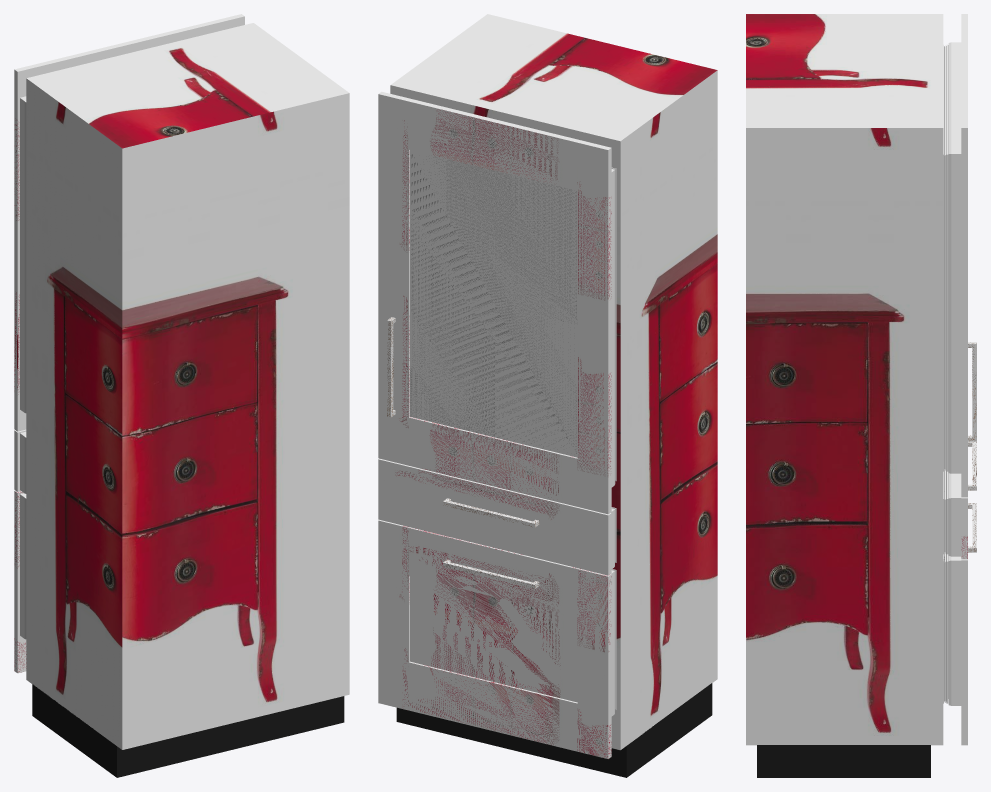
3 views of the same model, side by side, from view 1: azimuth 30°, elevation 25°; view 2: azimuth 150°, elevation 25°; view 3: azimuth 270°, elevation 25° (orthographic). The views are drawn at different scales.
Visible parts, largest first — view 1: mesh64_mesh64-geometry, mesh1_mesh1-geometry, mesh61_mesh61-geometry, mesh63_mesh63-geometry; view 2: mesh61_mesh61-geometry, mesh64_mesh64-geometry, mesh63_mesh63-geometry, mesh66_mesh66-geometry, mesh1_mesh1-geometry; view 3: mesh64_mesh64-geometry, mesh61_mesh61-geometry, mesh1_mesh1-geometry, mesh63_mesh63-geometry, mesh62_mesh62-geometry, mesh67_mesh67-geometry, mesh66_mesh66-geometry, mesh65_mesh65-geometry.
Boxes of the visible parts, x1,y1,x2,y2 form: mesh64_mesh64-geometry: [26, 23, 349, 749]; mesh1_mesh1-geometry: [32, 684, 344, 777]; mesh61_mesh61-geometry: [14, 14, 244, 431]; mesh63_mesh63-geometry: [14, 490, 26, 673]; mesh61_mesh61-geometry: [378, 91, 615, 514]; mesh64_mesh64-geometry: [390, 14, 717, 750]; mesh63_mesh63-geometry: [378, 520, 614, 758]; mesh66_mesh66-geometry: [378, 458, 611, 575]; mesh1_mesh1-geometry: [396, 683, 712, 777]; mesh64_mesh64-geometry: [746, 14, 948, 745]; mesh61_mesh61-geometry: [948, 14, 976, 497]; mesh1_mesh1-geometry: [757, 745, 930, 777]; mesh63_mesh63-geometry: [948, 503, 976, 745]; mesh62_mesh62-geometry: [948, 471, 961, 556]; mesh67_mesh67-geometry: [943, 552, 948, 703]; mesh66_mesh66-geometry: [961, 441, 976, 559]; mesh65_mesh65-geometry: [943, 469, 948, 554].
Bounding box in the file's own units: 0.3367 × 0.8964 × 0.2884.
